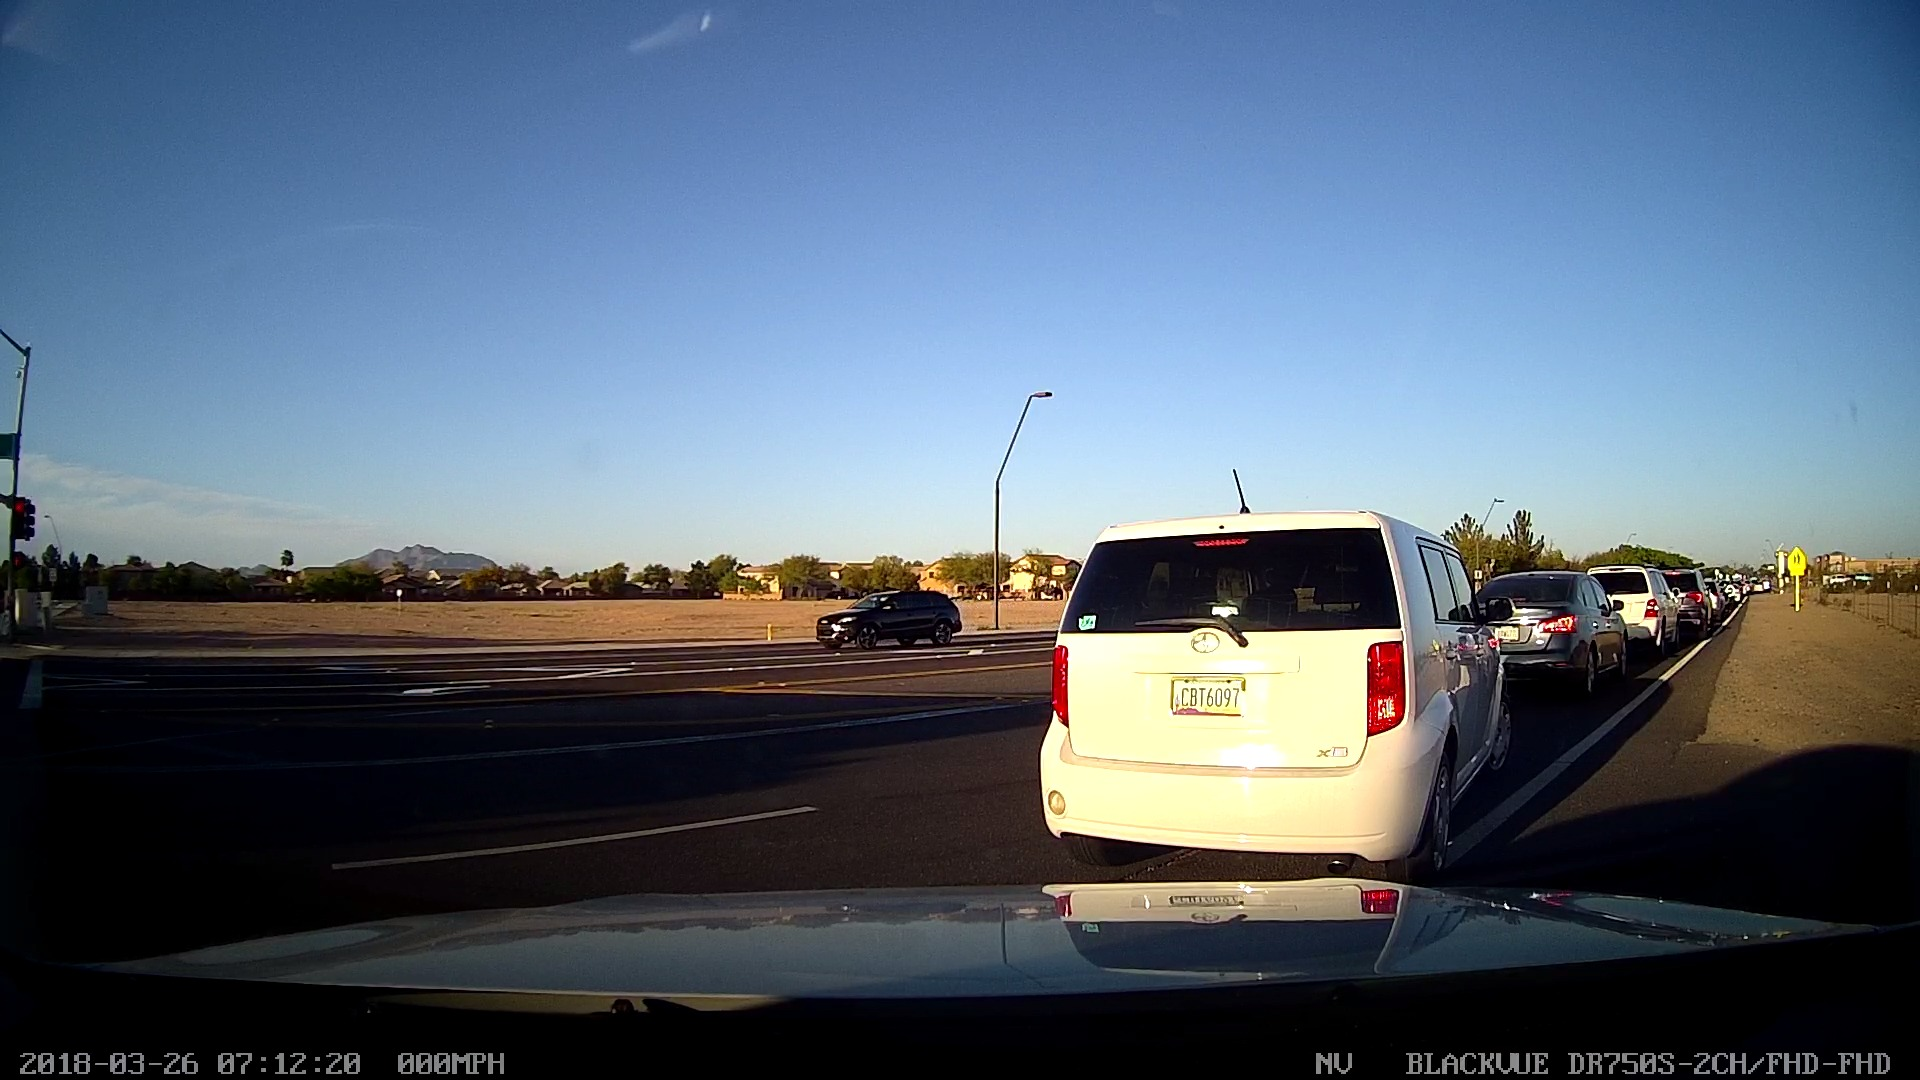plate: (1166, 673, 1246, 718)
vehicle: (1033, 510, 1508, 856), (1475, 567, 1618, 696), (813, 589, 960, 646), (1600, 564, 1678, 654)
